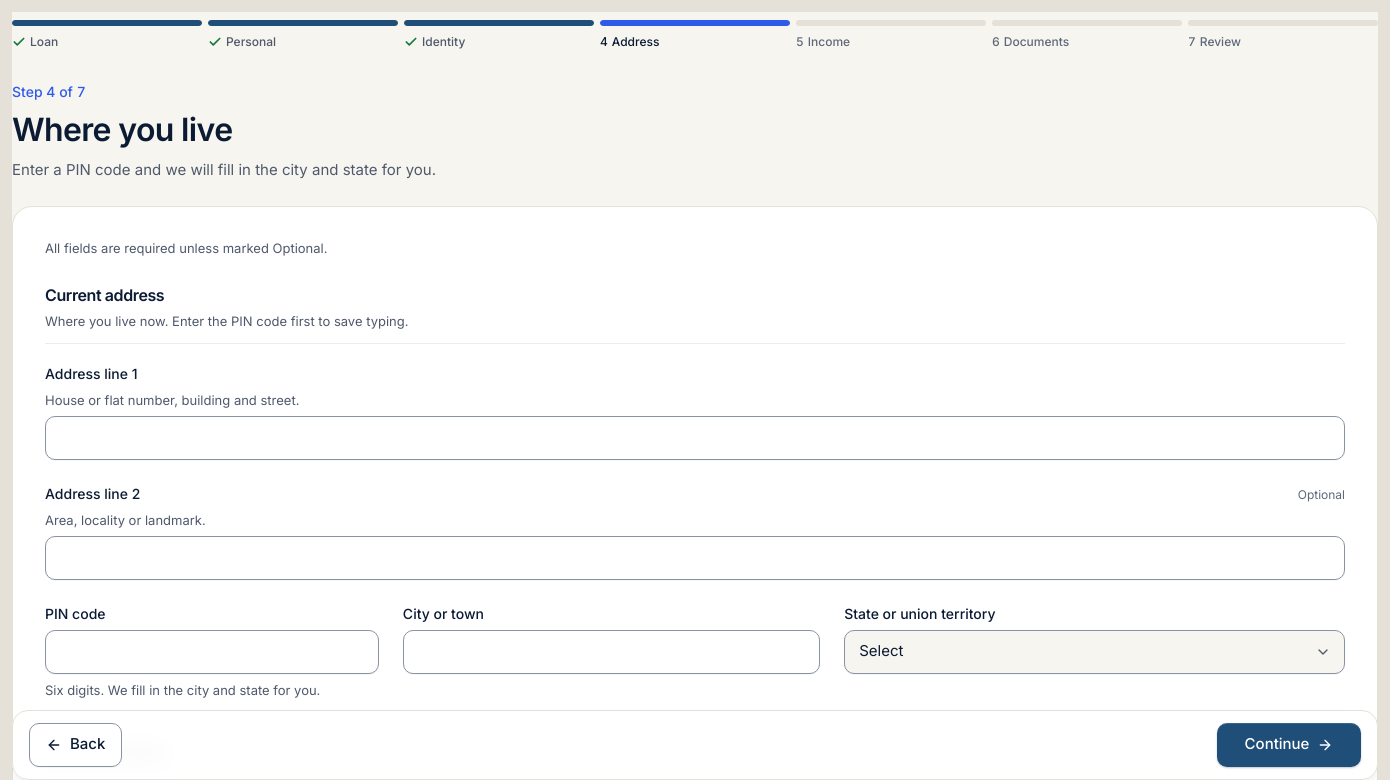
Test: Step 4 — address › fills city and state from the PIN code
Expected: the button "Continue" is enabled, left=1217, top=723, right=1361, bottom=767
Type "560001" into the field labelled "PIN code". click: (212, 652)
box: left=45, top=630, right=379, bottom=674
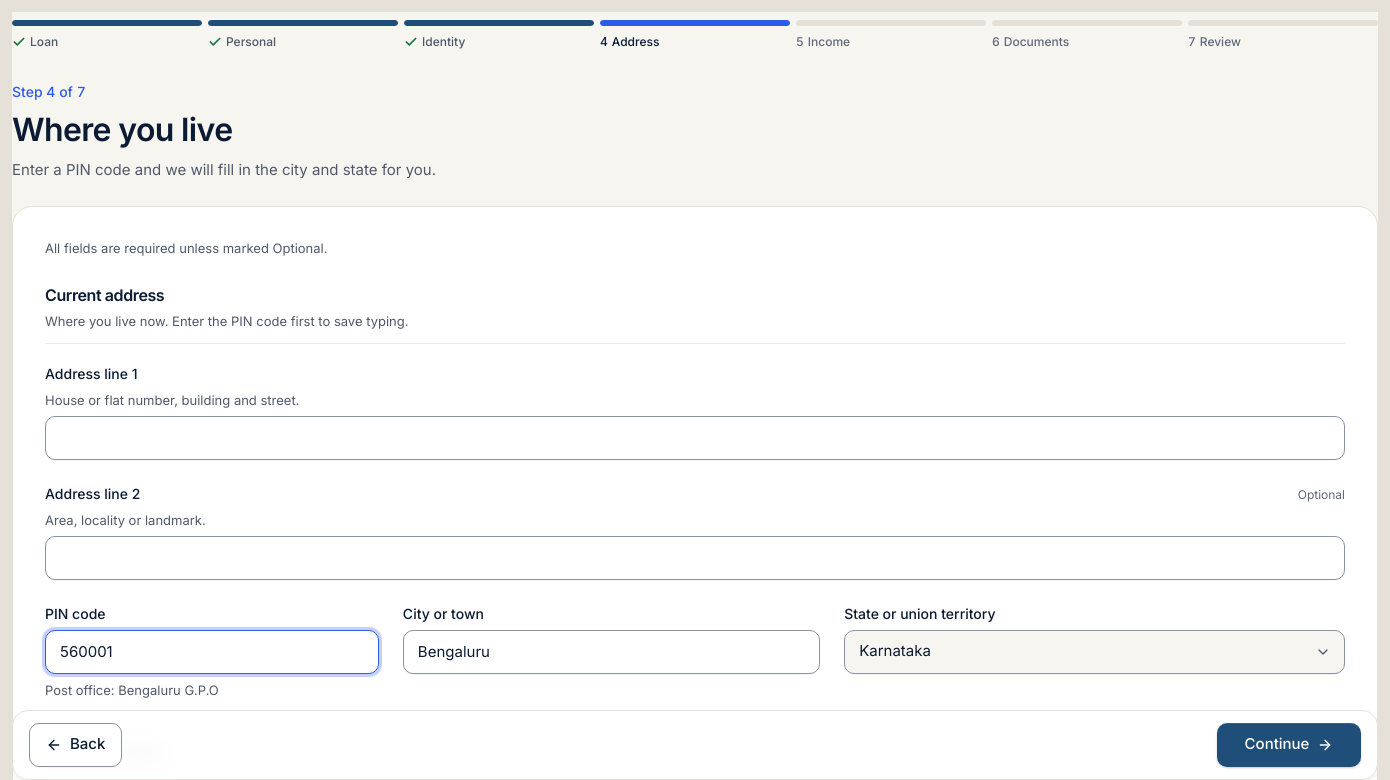
Result: the field labelled "City or town" holds "Bengaluru" at left=403, top=630, right=820, bottom=674
Result: the dropdown labelled "State or union territory" shows "Karnataka" at left=844, top=630, right=1345, bottom=674
Result: the text "Post office: Bengaluru G.P.O" is shown at left=45, top=682, right=219, bottom=698
